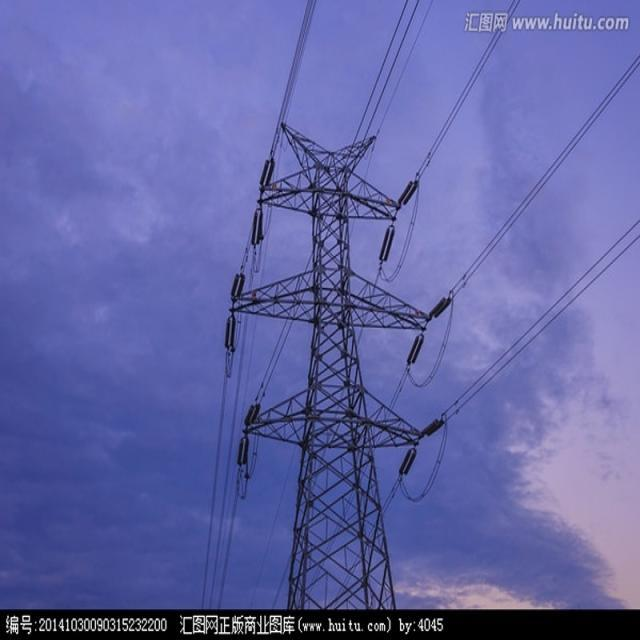non-critical vegetation: (232, 136, 454, 609)
